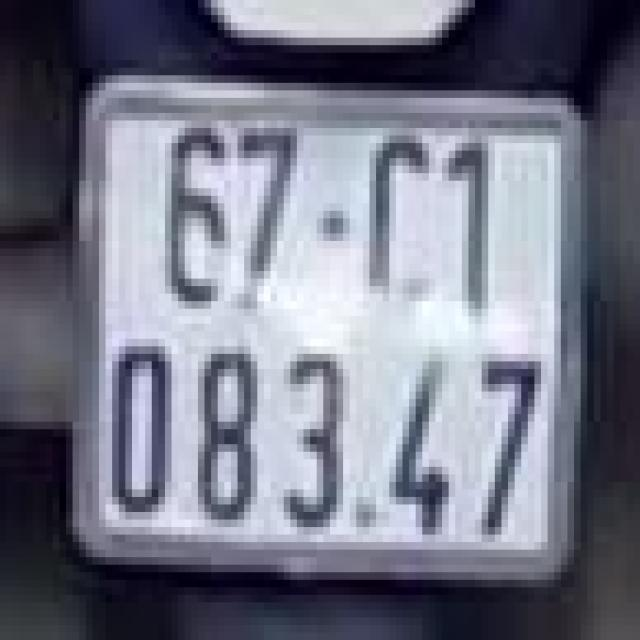0: (96, 312, 182, 524)
1: (442, 128, 495, 316)
3: (274, 335, 353, 546)
4: (366, 331, 459, 550)
6: (145, 105, 238, 309)
7: (234, 116, 307, 328), (468, 331, 541, 542)
8: (188, 316, 267, 535)
C: (353, 128, 432, 324)
